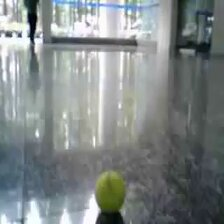tennis: (95, 171, 125, 210)
